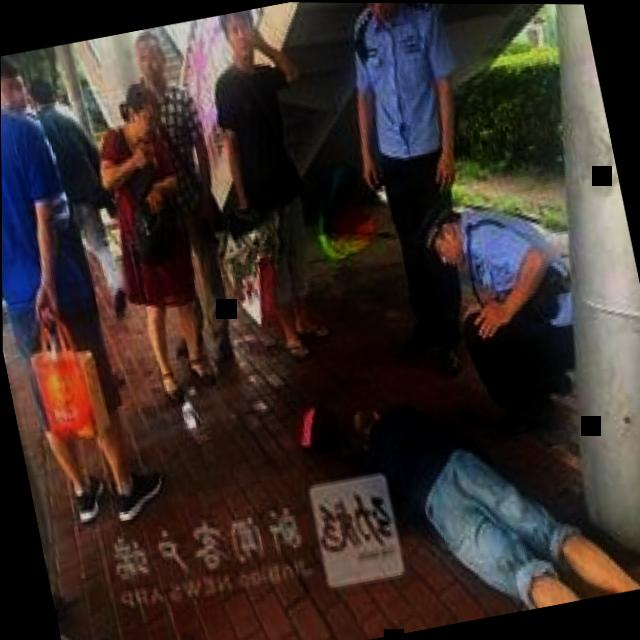Fall-Detected: (291, 326, 640, 637)
